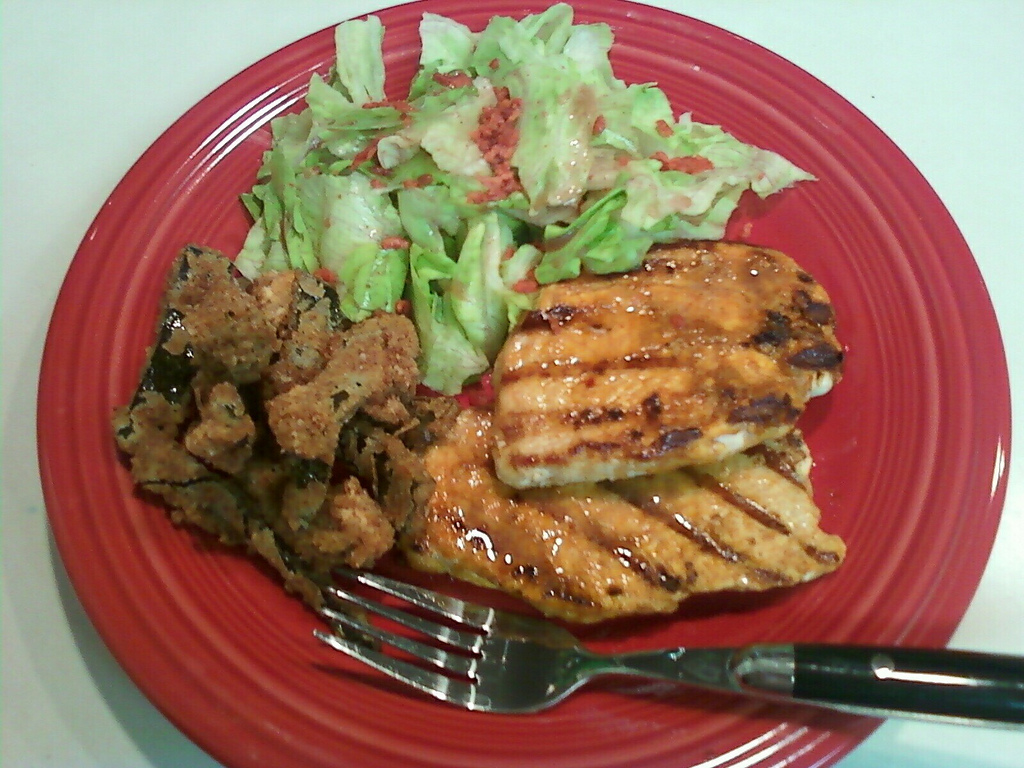chopped lettuce: (245, 25, 798, 279)
